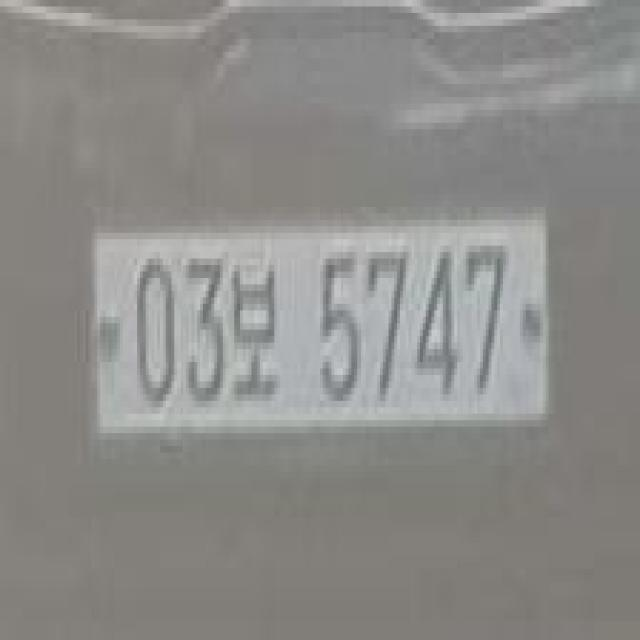illegal_plate: (89, 199, 551, 458)
